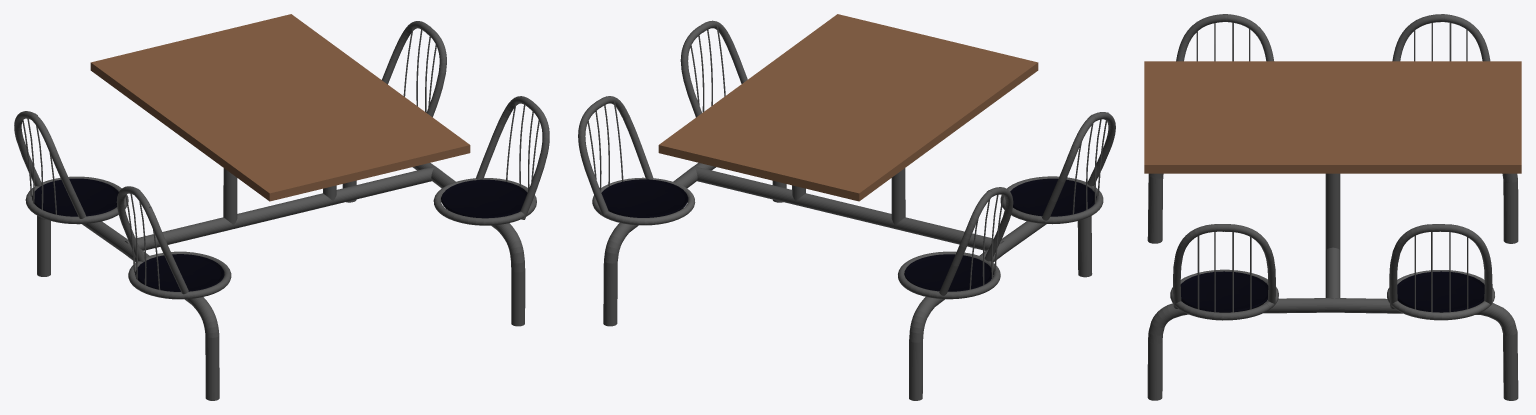
The model's file is Mesa90.obj.
3 renders of one model, left to right at view 1: azimuth 30°, elevation 25°; view 2: azimuth 150°, elevation 25°; view 3: azimuth 270°, elevation 25°, orthographic. The views are drawn at different scales.
Parts seen in each view (by area): view 1: Mesh.010_Mesh.002_Mesh.022_Mes, Mesh.008_Mesh.018_Mesh.038_Mes, Mesh.018_Mesh.035_Mesh.008_Mes, Mesh.039_Mesh.027_Mesh.001_Mes, Mesh.025_Mesh.013_Mesh.004_Mes, Mesh.015_Mesh.031_Mesh.029_Mes, Mesh.023_Mesh.021_Mesh.007_Mes, Mesh.016_Mesh.022_Mesh.002_Mes, Mesh.030_Mesh.001_Mesh.014_Mes, Mesh.022_Mesh.015_Mesh.028_Mes, Mesh_Mesh.017_Mesh.027_Mes, Mesh.038_Mesh.003_Mesh.039_Mes (+8 smaller); view 2: Mesh.010_Mesh.002_Mesh.022_Mes, Mesh.008_Mesh.018_Mesh.038_Mes, Mesh.029_Mesh.008_Mesh.006_Mes, Mesh.025_Mesh.013_Mesh.004_Mes, Mesh.039_Mesh.027_Mesh.001_Mes, Mesh.028_Mesh.028_Mesh.016_Mes, Mesh.016_Mesh.022_Mesh.002_Mes, Mesh.023_Mesh.021_Mesh.007_Mes, Mesh_Mesh.017_Mesh.027_Mes, Mesh.024_Mesh.009_Mesh_Mesh.00, Mesh.030_Mesh.001_Mesh.014_Mes, Mesh.003_Mesh.016_Mesh.005_Mes (+8 smaller); view 3: Mesh.010_Mesh.002_Mesh.022_Mes, Mesh.029_Mesh.008_Mesh.006_Mes, Mesh.018_Mesh.035_Mesh.008_Mes, Mesh.015_Mesh.031_Mesh.029_Mes, Mesh.028_Mesh.028_Mesh.016_Mes, Mesh.022_Mesh.015_Mesh.028_Mes, Mesh.034_Mesh.032_Mesh.015_Mes, Mesh.024_Mesh.009_Mesh_Mesh.00, Mesh.016_Mesh.022_Mesh.002_Mes, Mesh.023_Mesh.021_Mesh.007_Mes, Mesh.003_Mesh.016_Mesh.005_Mes, Mesh.009_Mesh.026_Mesh.012_Mes (+7 smaller).
Part boxes in pixels (x1,y1,x2,y2): Mesh.010_Mesh.002_Mesh.022_Mes: (90,14,470,201); Mesh.008_Mesh.018_Mesh.038_Mes: (125,166,434,250); Mesh.018_Mesh.035_Mesh.008_Mes: (441,179,527,218); Mesh.039_Mesh.027_Mesh.001_Mes: (135,254,224,291); Mesh.025_Mesh.013_Mesh.004_Mes: (32,178,118,216); Mesh.015_Mesh.031_Mesh.029_Mes: (431,167,525,326); Mesh.023_Mesh.021_Mesh.007_Mes: (122,243,219,400); Mesh.016_Mesh.022_Mesh.002_Mes: (37,215,127,276); Mesh.030_Mesh.001_Mesh.014_Mes: (128,251,231,299); Mesh.022_Mesh.015_Mesh.028_Mes: (433,177,536,225); Mesh_Mesh.017_Mesh.027_Mes: (25,176,128,224); Mesh.038_Mesh.003_Mesh.039_Mes: (520,102,549,219); Mesh.010_Mesh.002_Mesh.022_Mes: (658,14,1038,201); Mesh.008_Mesh.018_Mesh.038_Mes: (694,166,1003,250); Mesh.029_Mesh.008_Mesh.006_Mes: (601,179,688,217); Mesh.025_Mesh.013_Mesh.004_Mes: (904,254,993,291); Mesh.039_Mesh.027_Mesh.001_Mes: (1010,178,1096,216); Mesh.028_Mesh.028_Mesh.016_Mes: (603,167,697,326); Mesh.016_Mesh.022_Mesh.002_Mes: (909,243,1006,400); Mesh.023_Mesh.021_Mesh.007_Mes: (1001,216,1092,277); Mesh_Mesh.017_Mesh.027_Mes: (898,251,1000,299); Mesh.024_Mesh.009_Mesh_Mesh.00: (592,177,695,225); Mesh.030_Mesh.001_Mesh.014_Mes: (1000,176,1103,224); Mesh.003_Mesh.016_Mesh.005_Mes: (578,100,608,216); Mesh.010_Mesh.002_Mesh.022_Mes: (1144,61,1521,173); Mesh.029_Mesh.008_Mesh.006_Mes: (1397,271,1484,312); Mesh.018_Mesh.035_Mesh.008_Mes: (1180,271,1268,312); Mesh.015_Mesh.031_Mesh.029_Mes: (1147,298,1332,400); Mesh.028_Mesh.028_Mesh.016_Mes: (1333,298,1518,400); Mesh.022_Mesh.015_Mesh.028_Mes: (1170,269,1278,320); Mesh.034_Mesh.032_Mesh.015_Mes: (1325,173,1340,250); Mesh.024_Mesh.009_Mesh_Mesh.00: (1387,270,1494,320); Mesh.016_Mesh.022_Mesh.002_Mes: (1502,173,1518,243); Mesh.023_Mesh.021_Mesh.007_Mes: (1147,173,1163,243); Mesh.003_Mesh.016_Mesh.005_Mes: (1439,224,1492,305); Mesh.009_Mesh.026_Mesh.012_Mes: (1389,224,1439,308).
Bounding box in the file's own units: 3.11 × 1.45 × 2.4.
